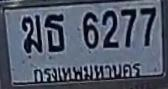2: (102, 10, 117, 47)
6: (82, 11, 98, 48)
7: (139, 6, 155, 44), (120, 8, 135, 46)
A06: (21, 14, 41, 52)
A24: (44, 13, 63, 51)
BKK: (31, 62, 143, 80)
